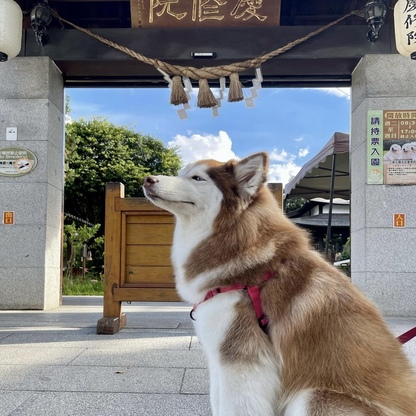husky: (140, 149, 415, 416)
